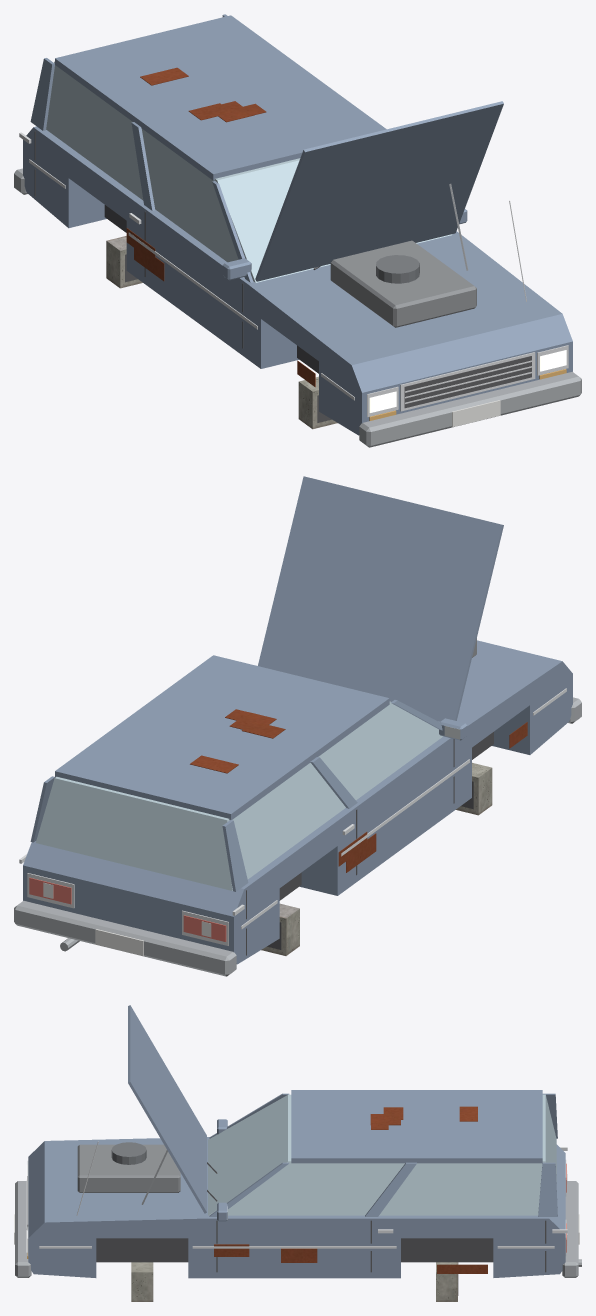
Rendered from junk_wagon_b.glb.
The picture shows the model from 3 angles, top to bottom: view 1: azimuth 30°, elevation 25°; view 2: azimuth 150°, elevation 25°; view 3: azimuth 270°, elevation 25°; orthographic projection. The views are drawn at different scales.
Visible parts, largest first — view 1: junk_wagon_b_car_b, junk_wagon_b_glass, junk_wagon_b_engine, junk_wagon_b_steel, junk_wagon_b_chrome, junk_wagon_b_dark, junk_wagon_b_rust, junk_wagon_b_block, junk_wagon_b_steel_d, junk_wagon_b_lamp_glass, junk_wagon_b_paint_w, junk_wagon_b_rubber; view 2: junk_wagon_b_car_b, junk_wagon_b_glass, junk_wagon_b_steel, junk_wagon_b_rust, junk_wagon_b_chrome, junk_wagon_b_block, junk_wagon_b_neon_r, junk_wagon_b_paint_w; view 3: junk_wagon_b_car_b, junk_wagon_b_glass, junk_wagon_b_rubber, junk_wagon_b_engine, junk_wagon_b_steel, junk_wagon_b_rust, junk_wagon_b_chrome, junk_wagon_b_block, junk_wagon_b_steel_d, junk_wagon_b_dark.
Part boxes in pixels (left/top/right/bottom): junk_wagon_b_car_b: left=23, top=14, right=572, bottom=435; junk_wagon_b_glass: left=46, top=61, right=451, bottom=282; junk_wagon_b_engine: left=330, top=240, right=476, bottom=327; junk_wagon_b_steel: left=14, top=168, right=581, bottom=447; junk_wagon_b_chrome: left=19, top=132, right=568, bottom=416; junk_wagon_b_dark: left=34, top=131, right=531, bottom=422; junk_wagon_b_rust: left=126, top=67, right=315, bottom=387; junk_wagon_b_block: left=106, top=236, right=337, bottom=429; junk_wagon_b_steel_d: left=376, top=255, right=419, bottom=283; junk_wagon_b_lamp_glass: left=369, top=350, right=566, bottom=412; junk_wagon_b_paint_w: left=452, top=400, right=500, bottom=427; junk_wagon_b_rubber: left=104, top=205, right=318, bottom=373; junk_wagon_b_car_b: left=23, top=476, right=572, bottom=964; junk_wagon_b_glass: left=36, top=701, right=442, bottom=890; junk_wagon_b_steel: left=14, top=697, right=581, bottom=976; junk_wagon_b_rust: left=190, top=709, right=527, bottom=872; junk_wagon_b_chrome: left=19, top=688, right=566, bottom=945; junk_wagon_b_block: left=261, top=762, right=492, bottom=955; junk_wagon_b_neon_r: left=29, top=877, right=226, bottom=941; junk_wagon_b_paint_w: left=43, top=882, right=211, bottom=956; junk_wagon_b_car_b: left=28, top=1005, right=565, bottom=1278; junk_wagon_b_glass: left=208, top=1094, right=556, bottom=1215; junk_wagon_b_rubber: left=96, top=1238, right=493, bottom=1262; junk_wagon_b_engine: left=77, top=1144, right=180, bottom=1192; junk_wagon_b_steel: left=15, top=1150, right=581, bottom=1277; junk_wagon_b_rust: left=214, top=1106, right=487, bottom=1273; junk_wagon_b_chrome: left=26, top=1141, right=567, bottom=1256; junk_wagon_b_block: left=131, top=1262, right=457, bottom=1301; junk_wagon_b_steel_d: left=111, top=1142, right=146, bottom=1164; junk_wagon_b_dark: left=27, top=1162, right=546, bottom=1295.
Bounding box in the file's own units: 2 × 2.25 × 5.18.
16 materials, 2 textured.
